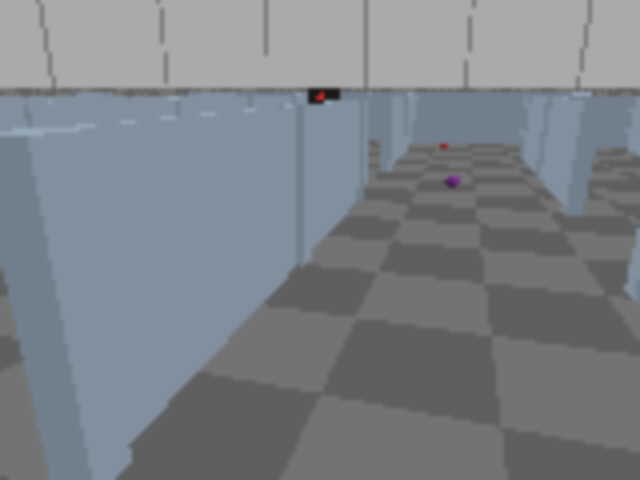puck: (443, 173, 462, 189)
